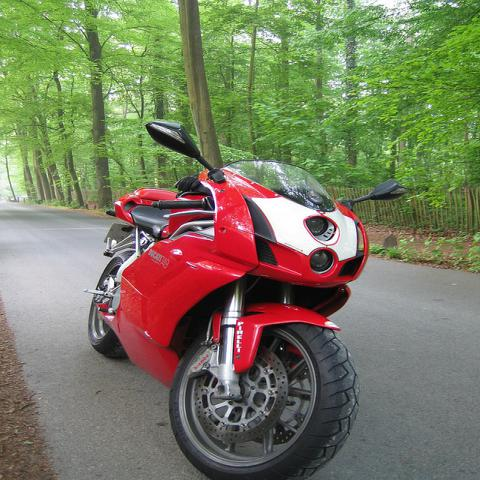motorcycle: (81, 124, 417, 472)
